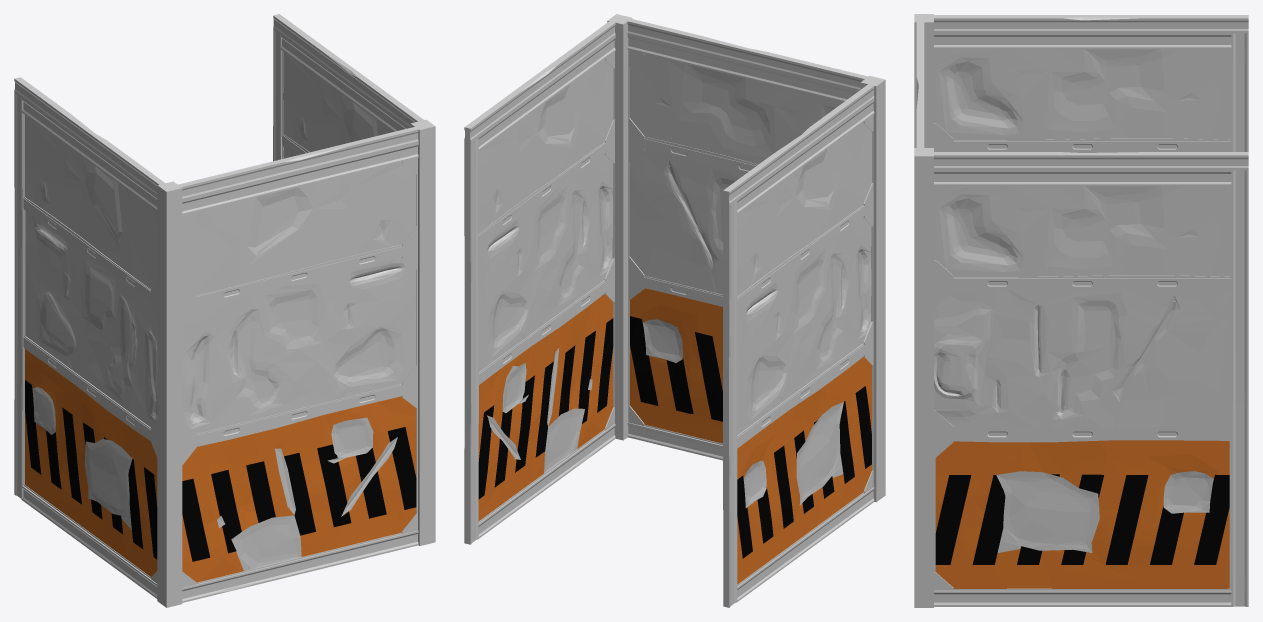
Rendered from SM_Wall_Angle_Broken_04.glb.
3 renders of one model, left to right at view 1: azimuth 30°, elevation 25°; view 2: azimuth 150°, elevation 25°; view 3: azimuth 270°, elevation 25°, orthographic. The views are drawn at different scales.
Visible parts, largest first — view 1: SM_Wall_Angle_Broken_04; view 2: SM_Wall_Angle_Broken_04; view 3: SM_Wall_Angle_Broken_04.
Part boxes in pixels (left/top/right/bottom): SM_Wall_Angle_Broken_04: left=14, top=14, right=435, bottom=607; SM_Wall_Angle_Broken_04: left=464, top=14, right=885, bottom=607; SM_Wall_Angle_Broken_04: left=914, top=14, right=1248, bottom=607.
Size of the model in its own units: 2.03 by 3 by 2.01.
